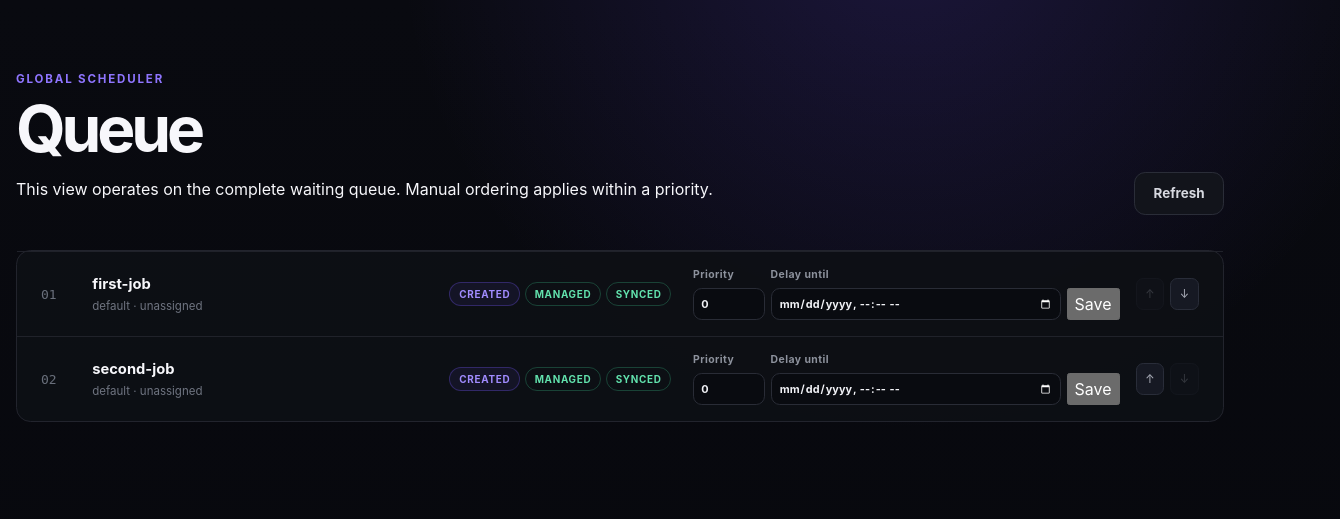
QueueWorkflow › serializes the full order and announces the saved position
Click the button named "Move first-job down" at (1185,294), box x1=1170 y1=278 x2=1199 y2=310
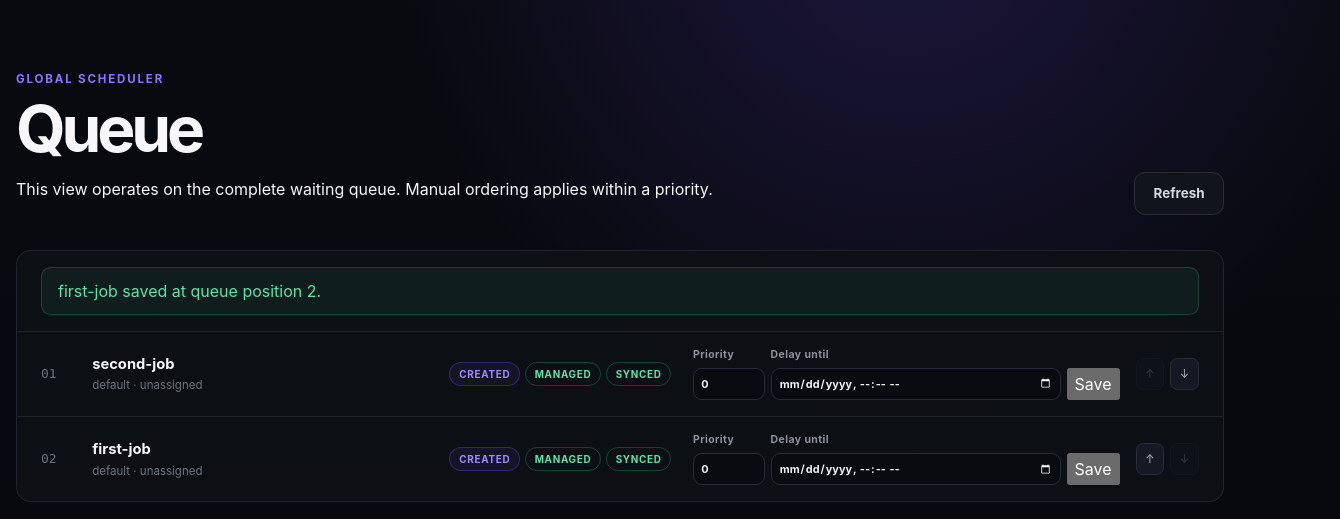
Now the text "first-job saved at queue position 2." is shown, box x1=41 y1=267 x2=1199 y2=315
